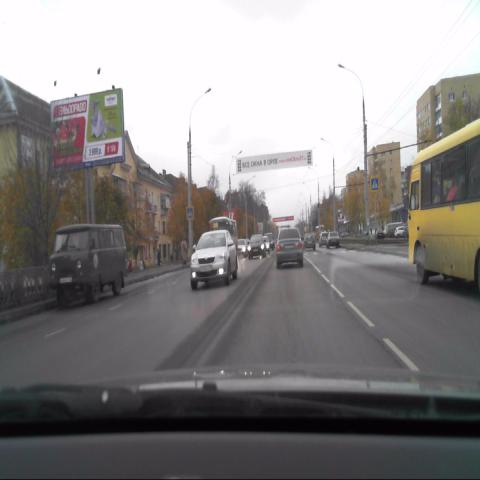5_19_1: (186, 206, 193, 218), (372, 177, 378, 190)
